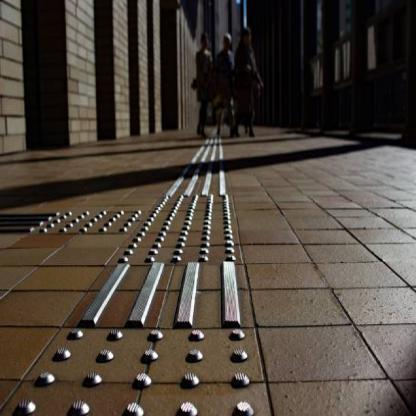podotacti: (1, 141, 254, 414)
